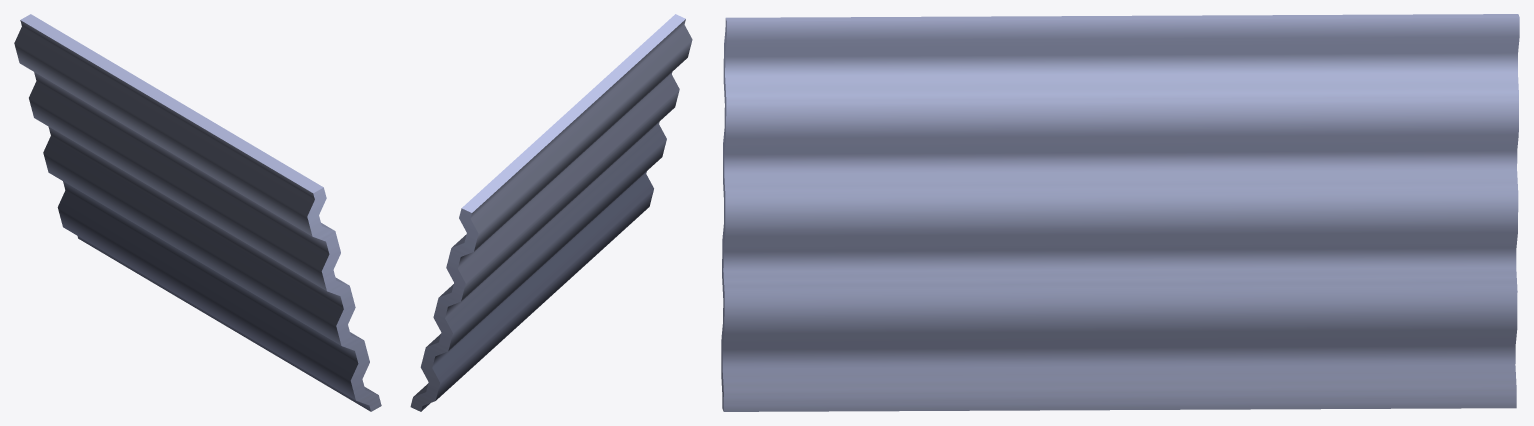
Rendered from plating-wide_lev3.glb.
3 renders of one model, left to right at view 1: azimuth 30°, elevation 25°; view 2: azimuth 150°, elevation 25°; view 3: azimuth 270°, elevation 25°, orthographic. The views are drawn at different scales.
Parts seen in each view (by area): view 1: plating-wide_lev3; view 2: plating-wide_lev3; view 3: plating-wide_lev3.
Part boxes in pixels (x1,y1,x2,y2): plating-wide_lev3: (14, 14, 381, 411); plating-wide_lev3: (410, 14, 692, 411); plating-wide_lev3: (721, 14, 1519, 411).
Bounding box in the file's own units: 0.9225 × 2.09 × 4.07.
1 material, 1 textured.
